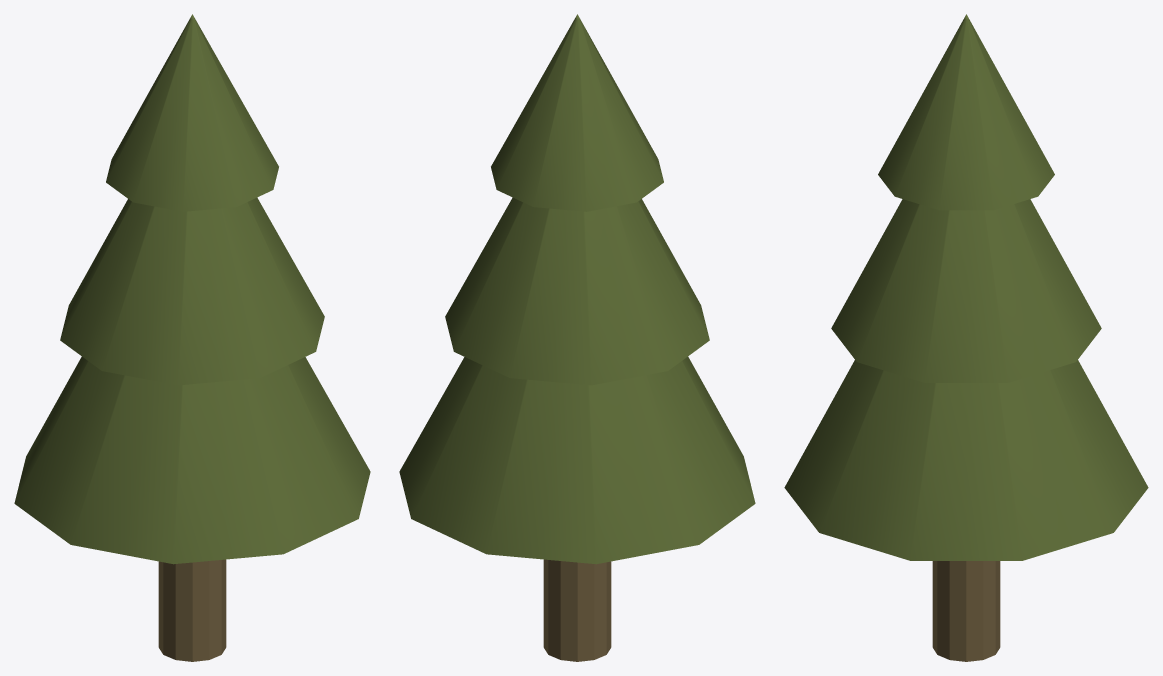
File: tree_gamejam.fbx
3 views of the same model, side by side, from view 1: azimuth 30°, elevation 25°; view 2: azimuth 150°, elevation 25°; view 3: azimuth 270°, elevation 25° (orthographic).
Parts seen in each view (by area): view 1: treeleaves2, treeleaves1, treeleaves, tree_trunk; view 2: treeleaves2, treeleaves1, treeleaves, tree_trunk; view 3: treeleaves2, treeleaves1, treeleaves, tree_trunk.
Boxes of the visible parts, x1,y1,x2,y2 form: treeleaves2: [14, 356, 370, 564]; treeleaves1: [60, 197, 324, 385]; treeleaves: [106, 14, 278, 211]; tree_trunk: [158, 559, 226, 661]; treeleaves2: [399, 356, 755, 564]; treeleaves1: [445, 197, 709, 385]; treeleaves: [491, 14, 663, 211]; tree_trunk: [543, 559, 611, 661]; treeleaves2: [784, 360, 1148, 560]; treeleaves1: [831, 199, 1101, 382]; treeleaves: [878, 14, 1054, 210]; tree_trunk: [932, 561, 1000, 661].
Size of the model in its own units: 7.98 by 16.11 by 8.39.
